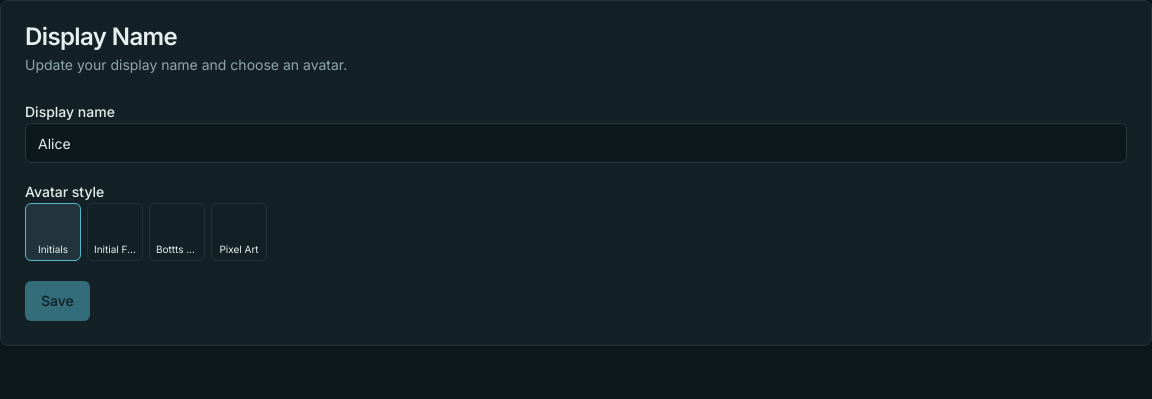
Test: DisplayNameCard with avatar picker › shows the API error message when the update fails with an ApiError
Replace the text in the field with "Alice 2". click: (576, 143)
box: [25,123,1127,163]
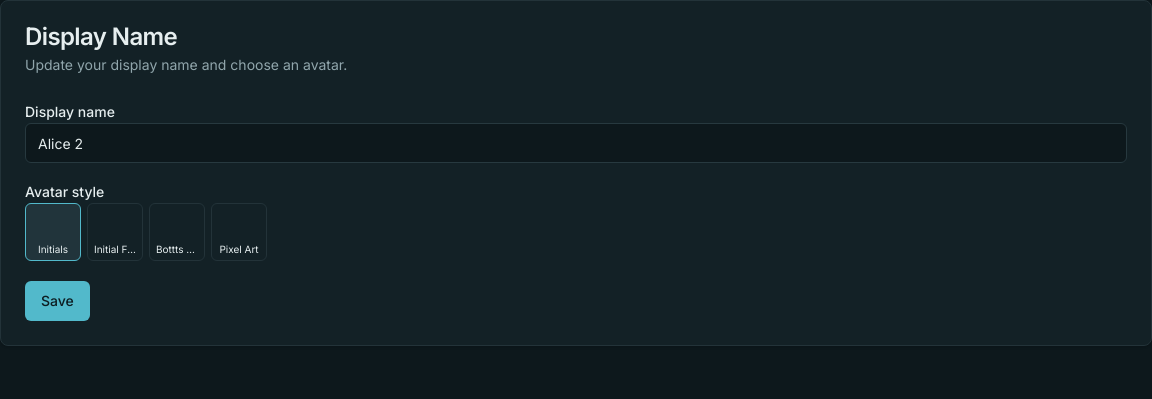
Submit the form named "update display name", box [25,99,1127,321]
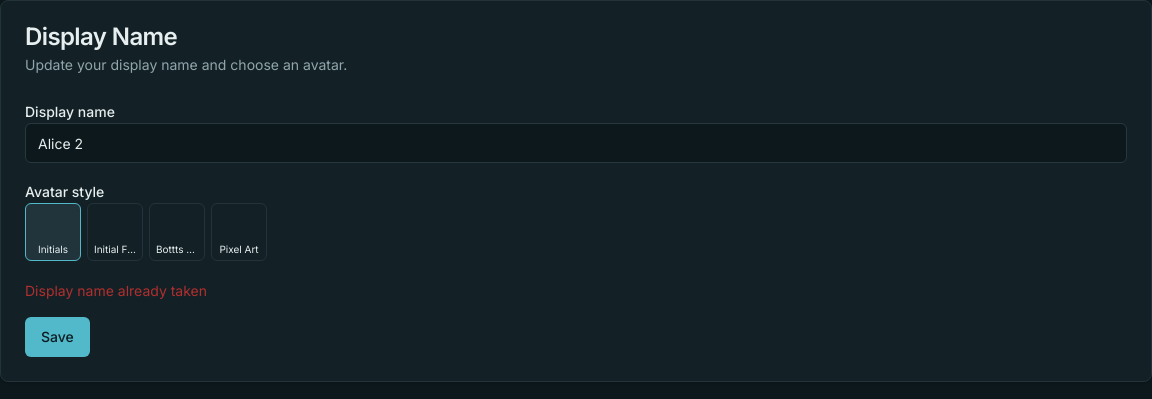
Expected: the message reads "Display name already taken", [25,282,207,299]
